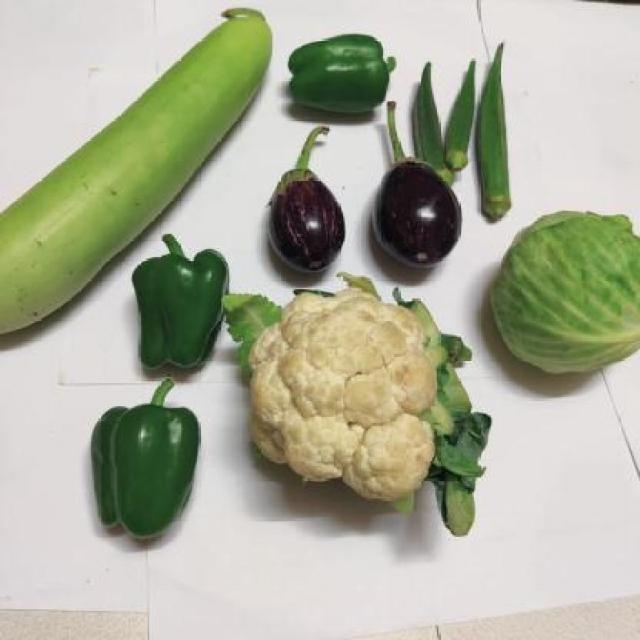Brinjal: (376, 106, 470, 272), (257, 120, 351, 285)
Cabbage: (497, 209, 640, 383)
Capsicum: (89, 380, 202, 543), (126, 226, 232, 374), (280, 31, 402, 120)
Cauliflower: (235, 274, 500, 542)
Lady finger: (476, 30, 509, 238)
